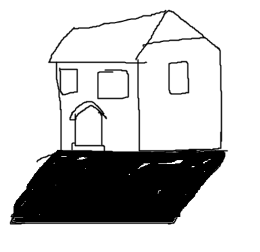door: (69, 100, 110, 157)
open_window: (88, 64, 133, 106), (162, 53, 193, 102), (56, 67, 86, 97)
roof: (42, 8, 224, 68)
shadow: (6, 139, 227, 231)
wall: (131, 40, 229, 157)
